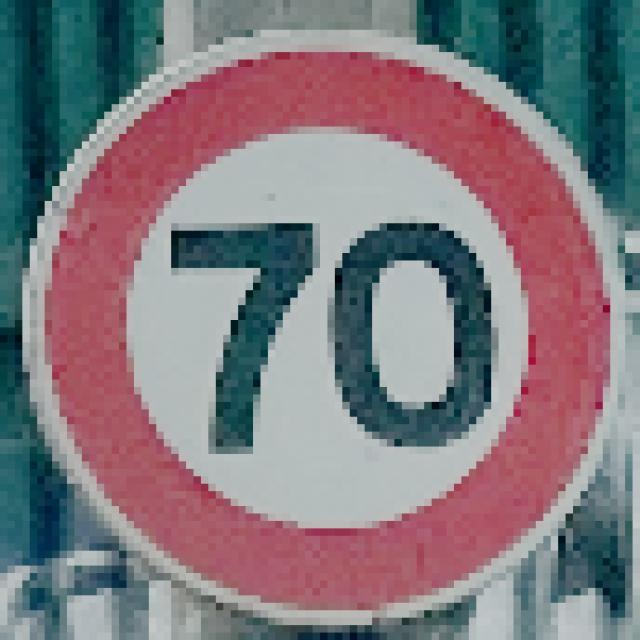speed_70: (0, 0, 633, 633)
